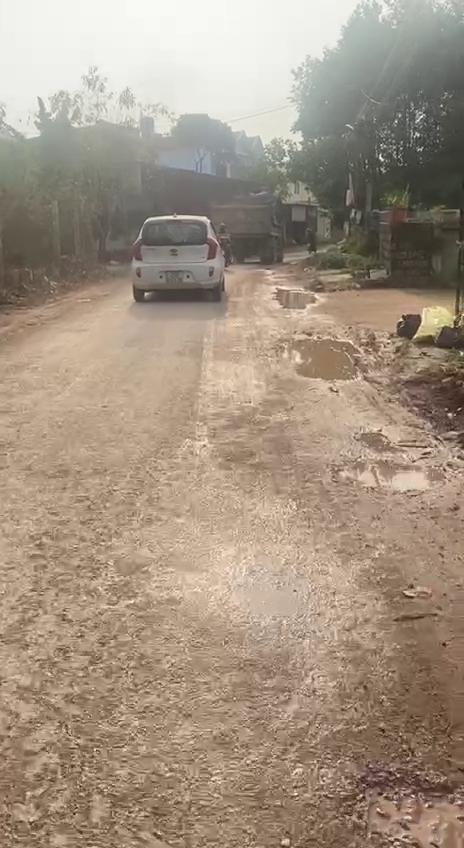pothole: (333, 752, 464, 848), (330, 430, 440, 498), (274, 330, 362, 385), (272, 281, 324, 316)
